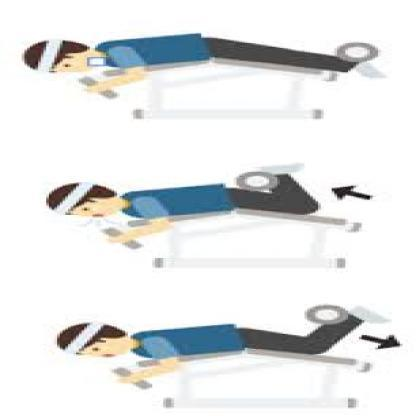reg curl machine: (47, 160, 416, 275), (58, 296, 416, 412), (27, 27, 413, 124)
